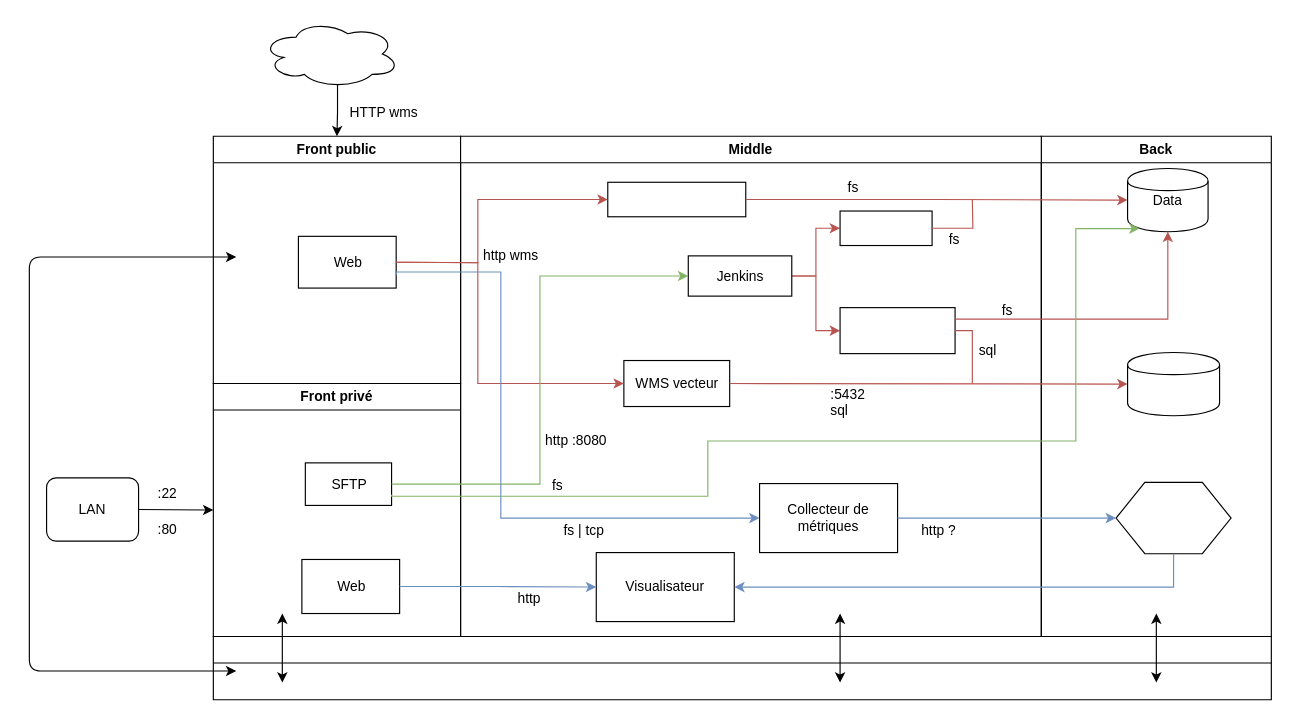
Image size: 1291x720. Some labels were removed from this diagram. Here are the shapes that lost their labels. From the top down, the centre of each, then its label:
(676,199): rok4 (WMS raster)
(885,228): be4
(897,330): Scipts vecteur
(1173,383): Bdd
(1173,517): Stockage
(741,667): Registry
